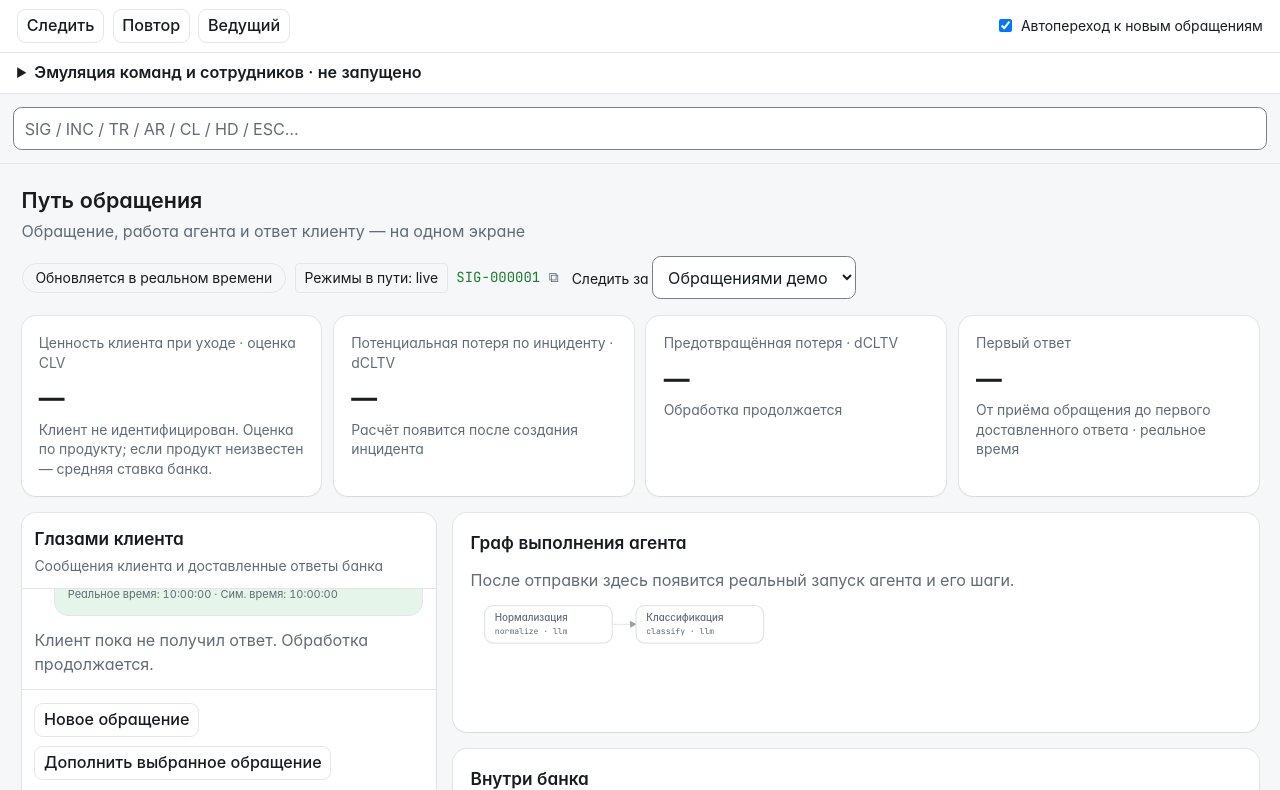
Test: pins the selected journey when automatic following is disabled and resumes latest on request
(page scrolled)
Expected: the link with aria-label "Открыть след SIG-000001" is shown, x1=456 y1=268 x2=540 y2=287
Click the checkbox labelled "Автопереход к новым обращениям".
click(1006, 26)  # box x1=999 y1=19 x2=1012 y2=32
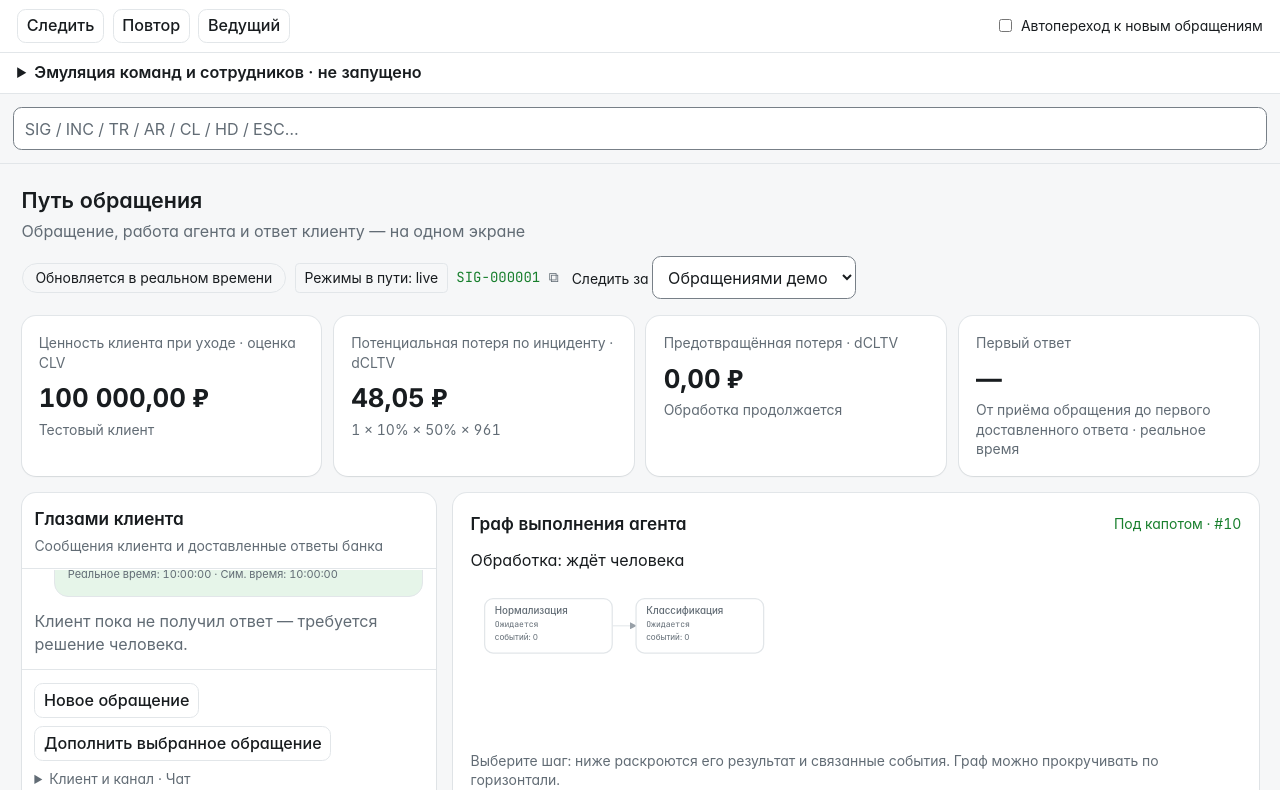
Expected: the link with aria-label "Открыть след SIG-000001" is shown, x1=456 y1=268 x2=540 y2=287
Expected: the checkbox labelled "Автопереход к новым обращениям" is not checked
Click the checkbox labelled "Автопереход к новым обращениям".
click(1006, 26)  # box x1=999 y1=19 x2=1012 y2=32
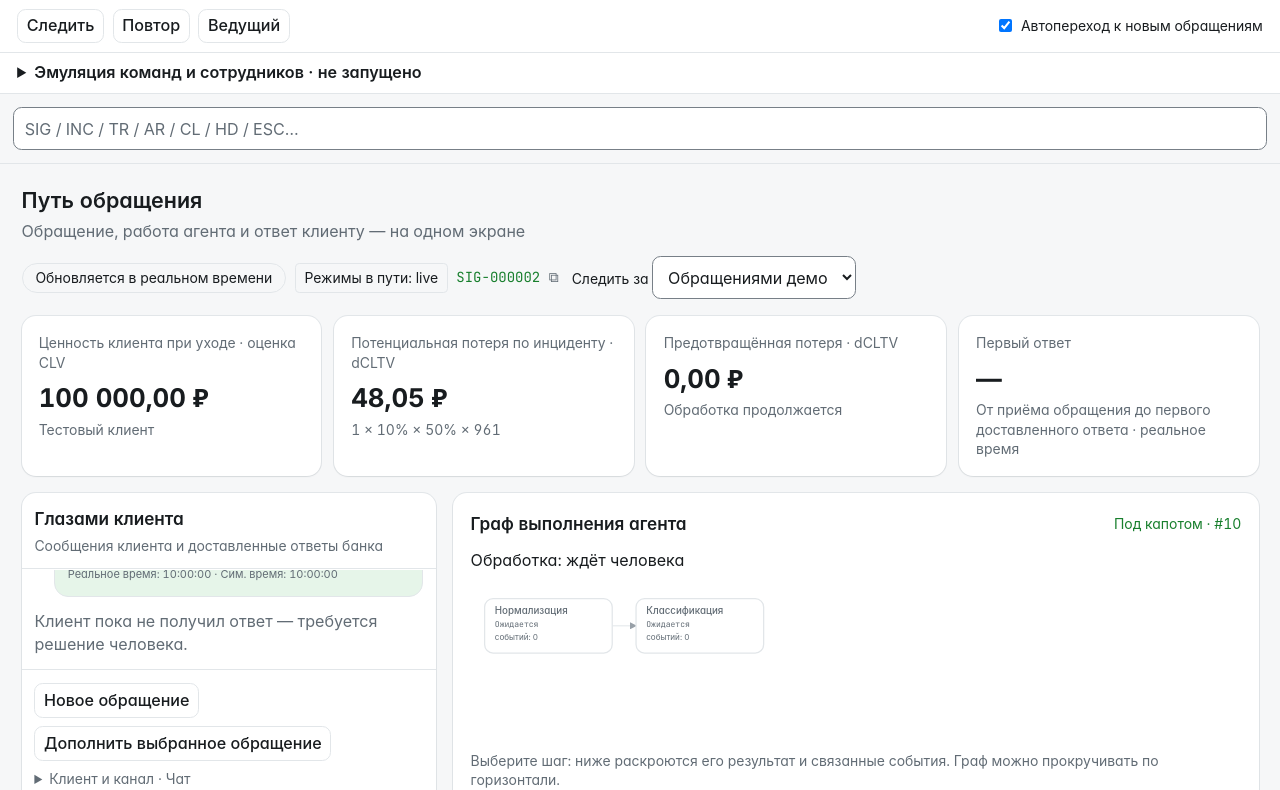
Expected: the link with aria-label "Открыть след SIG-000002" is shown, x1=456 y1=268 x2=540 y2=287
